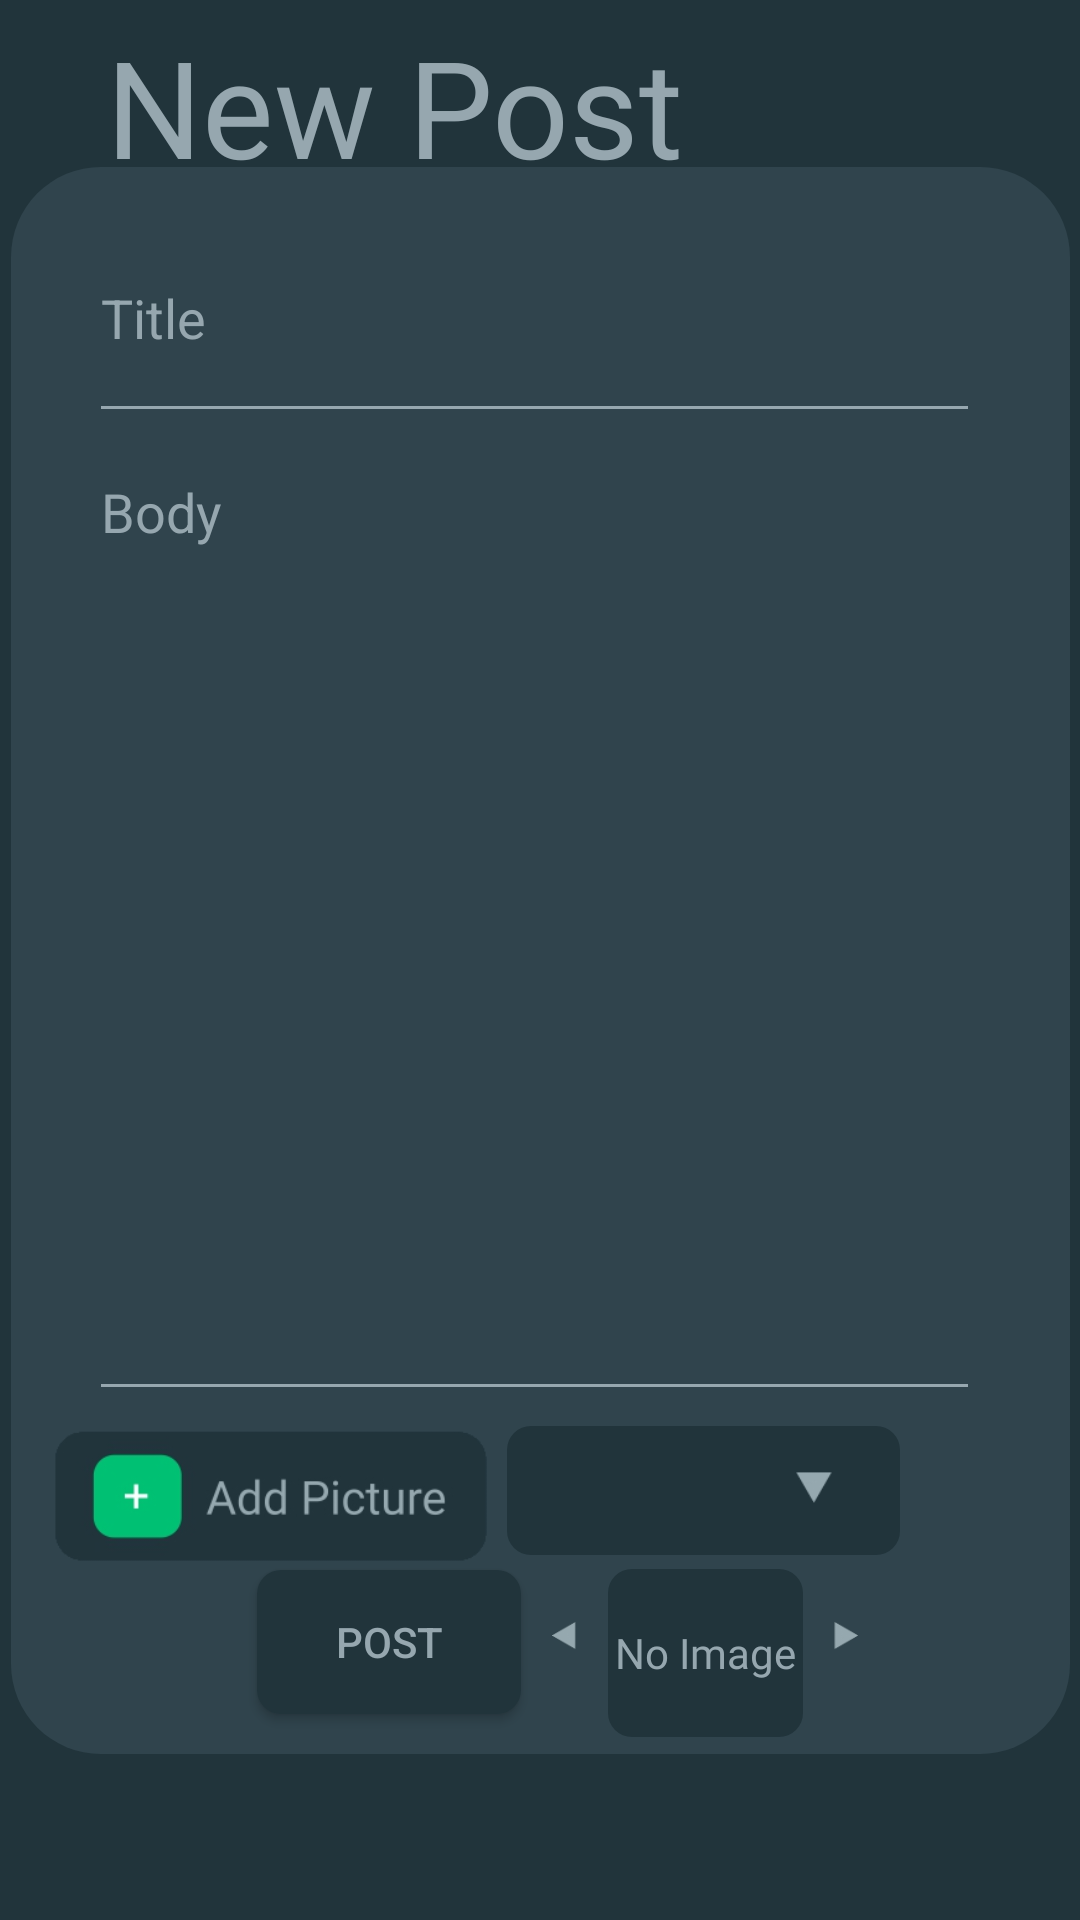

Locate icon controls on the screen. Image size 1080px x 1920px, boxes as (x1, y1, x2, y2).
tri but: (796, 1472, 832, 1502)
triangle left: (552, 1622, 576, 1649)
triangle right: (834, 1622, 858, 1649)
